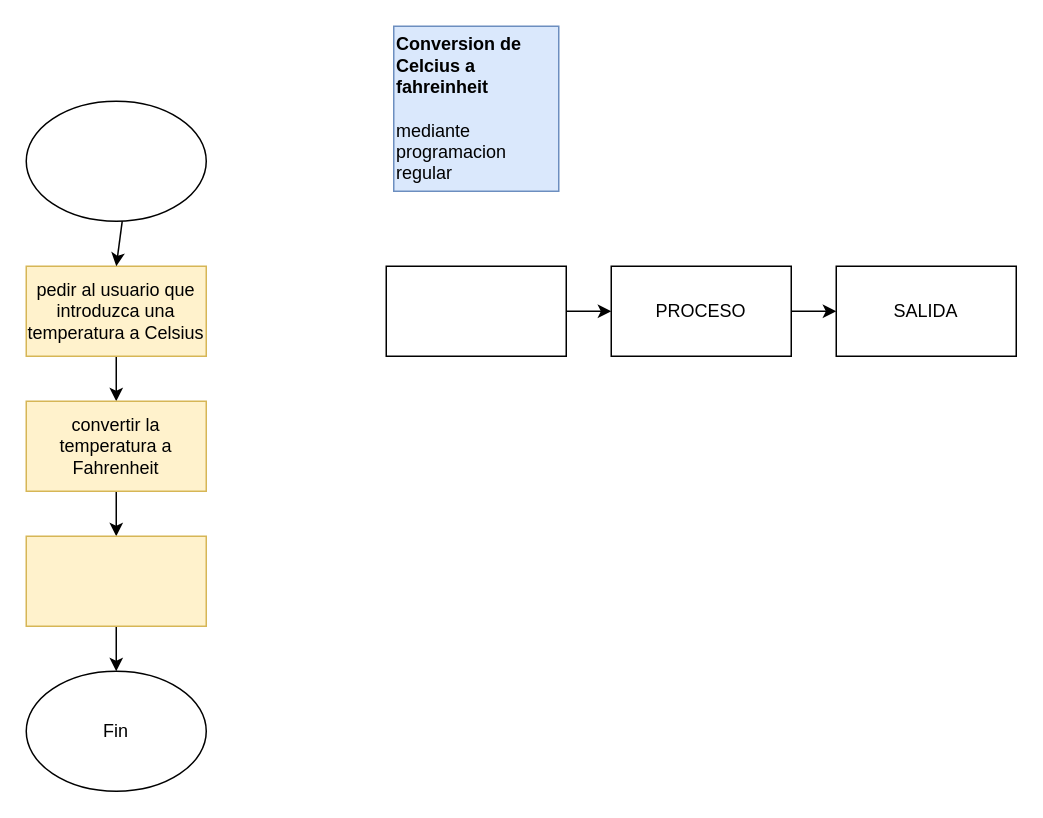
Image size: 1043x818. Some labels were removed from this diagram. The shapes that lost their labels are listed below. From the top down, each one's centre as x and y in pixels, then its label:
(115,160): INICIO
(475,310): ENTRADA
(115,580): imprimir grados Fahreinheit
